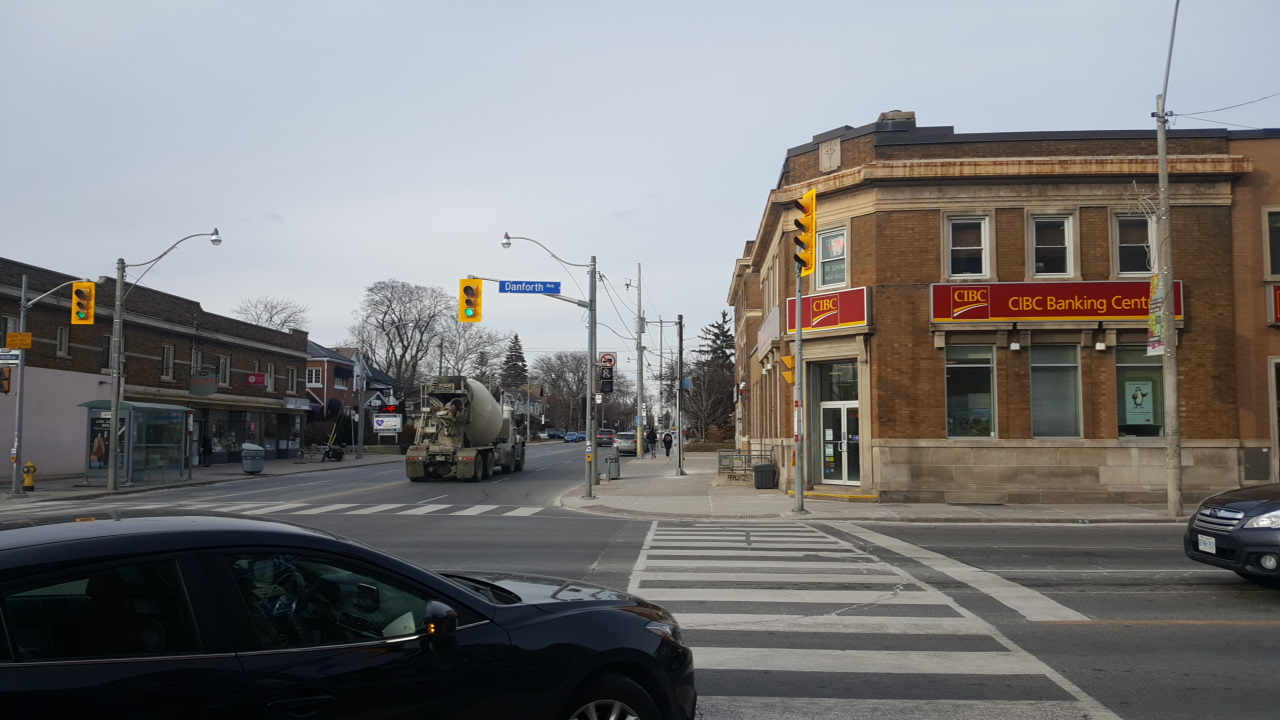light: (597, 363, 615, 394)
